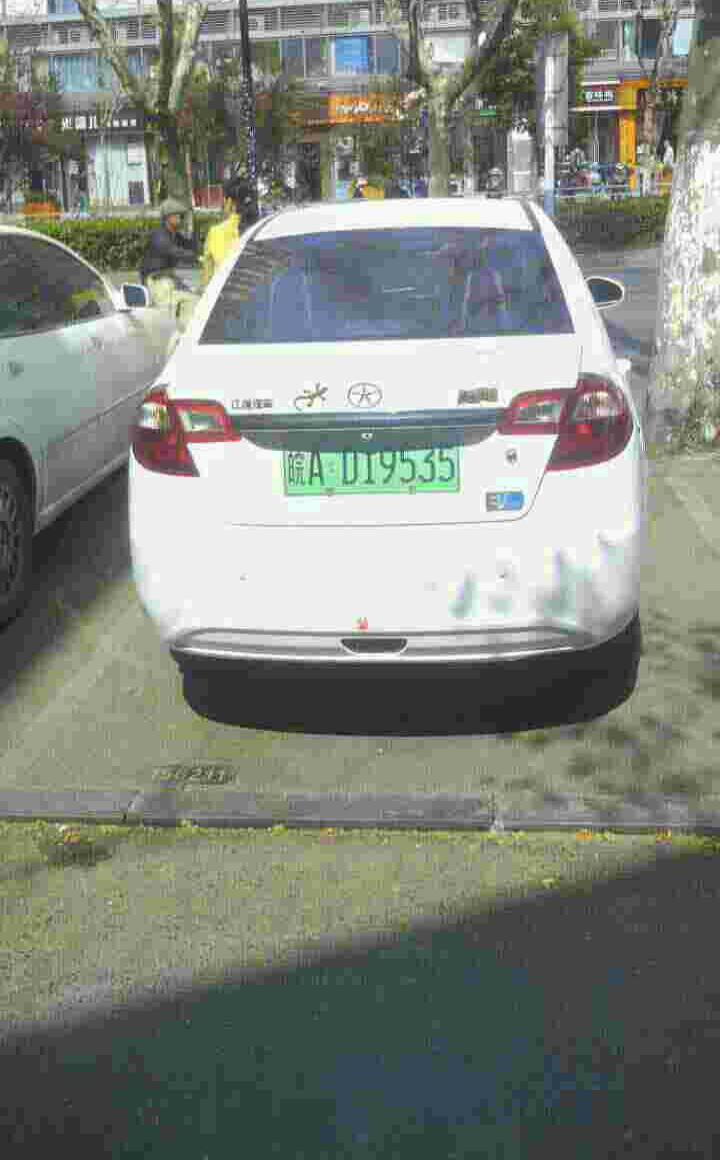car_green: (279, 434, 469, 496)
